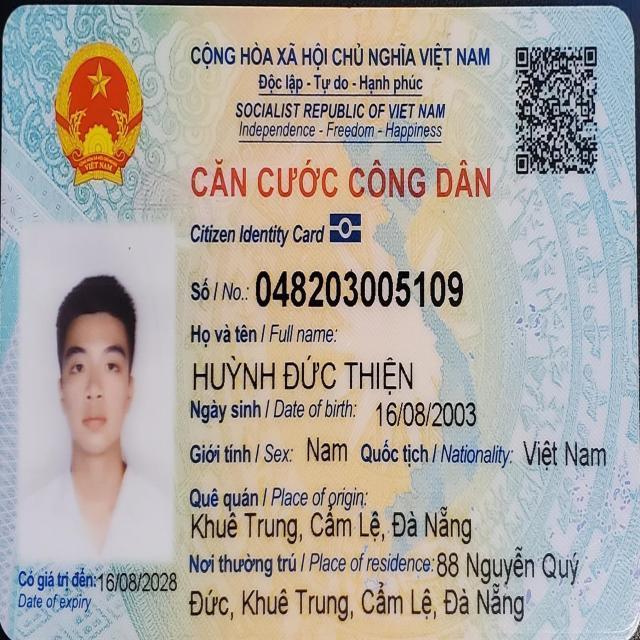current_place: (185, 582, 528, 624), (433, 545, 580, 583)
dob: (367, 394, 478, 434)
expire_date: (96, 562, 178, 600)
gender: (301, 429, 351, 473)
id: (255, 262, 465, 316)
name: (189, 349, 420, 394)
nationality: (520, 431, 613, 477)
origin_place: (190, 505, 477, 550)
qr: (512, 39, 602, 187)
